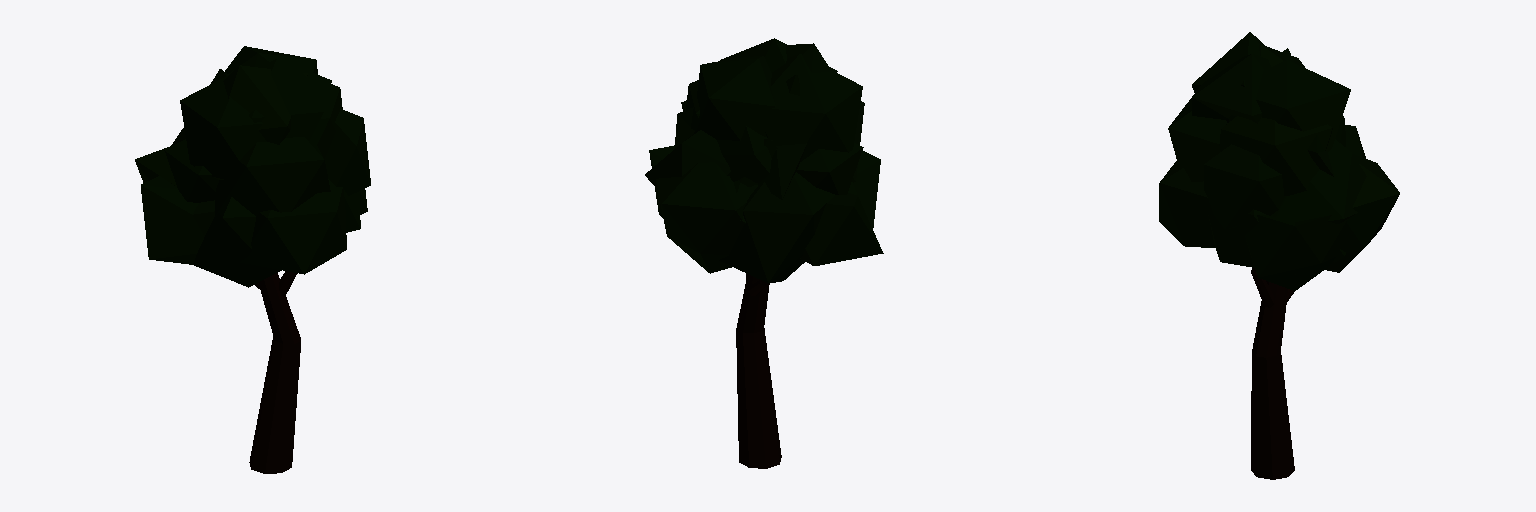
The model's file is tree_model0.obj.
3 renders of one model, left to right at view 1: azimuth 30°, elevation 25°; view 2: azimuth 150°, elevation 25°; view 3: azimuth 270°, elevation 25°, orthographic.
Parts seen in each view (by area): view 1: Cylinder; view 2: Cylinder; view 3: Cylinder.
Part boxes in pixels (x1,y1,x2,y2): Cylinder: (135,46,370,473); Cylinder: (645,38,883,468); Cylinder: (1159,32,1399,479).
Size of the model in its own units: 5.46 by 9.8 by 5.12.